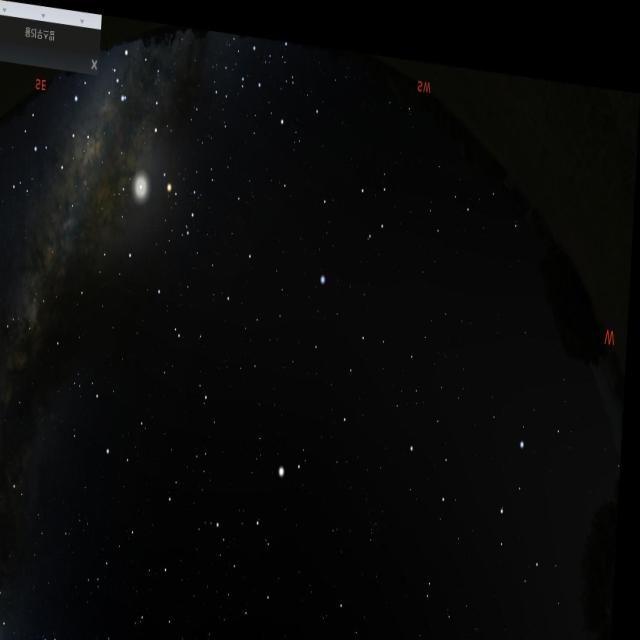bootes: (223, 435, 311, 628)
leo: (398, 382, 551, 574)
lyra: (40, 613, 97, 640)
moon: (114, 150, 163, 228)
scorpius: (100, 38, 214, 256)
